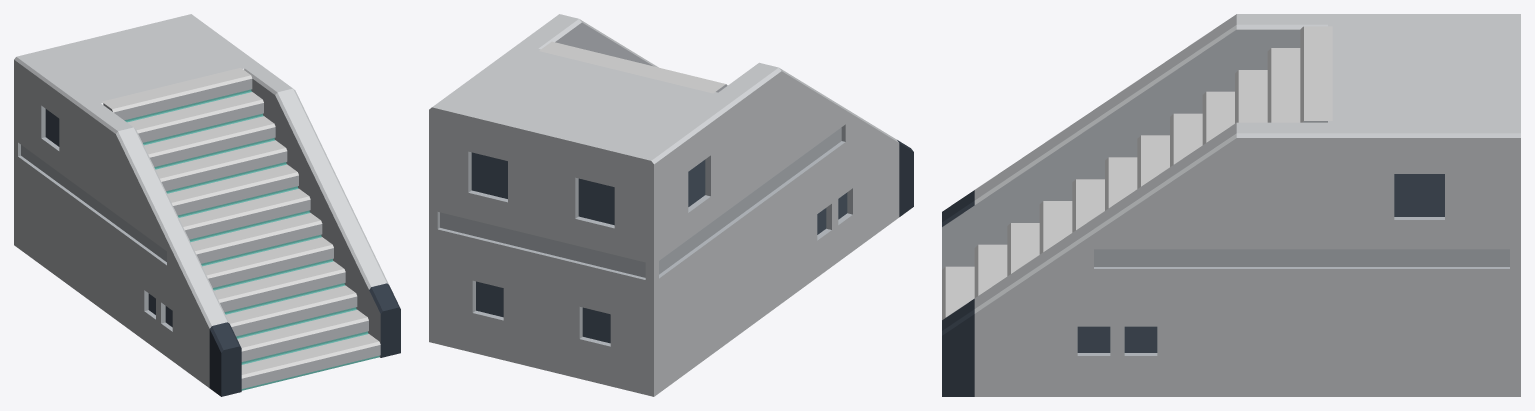
The model's file is plaza-stair-block-65357e.glb.
3 views of the same model, side by side, from view 1: azimuth 30°, elevation 25°; view 2: azimuth 150°, elevation 25°; view 3: azimuth 270°, elevation 25° (orthographic). The views are drawn at different scales.
Parts seen in each view (by area): view 1: plaza-stair-block; view 2: plaza-stair-block; view 3: plaza-stair-block.
Part boxes in pixels (x1,y1,x2,y2): plaza-stair-block: [14, 14, 400, 396]; plaza-stair-block: [429, 14, 913, 396]; plaza-stair-block: [942, 14, 1520, 396].
Size of the model in its own units: 4 by 4 by 8.
